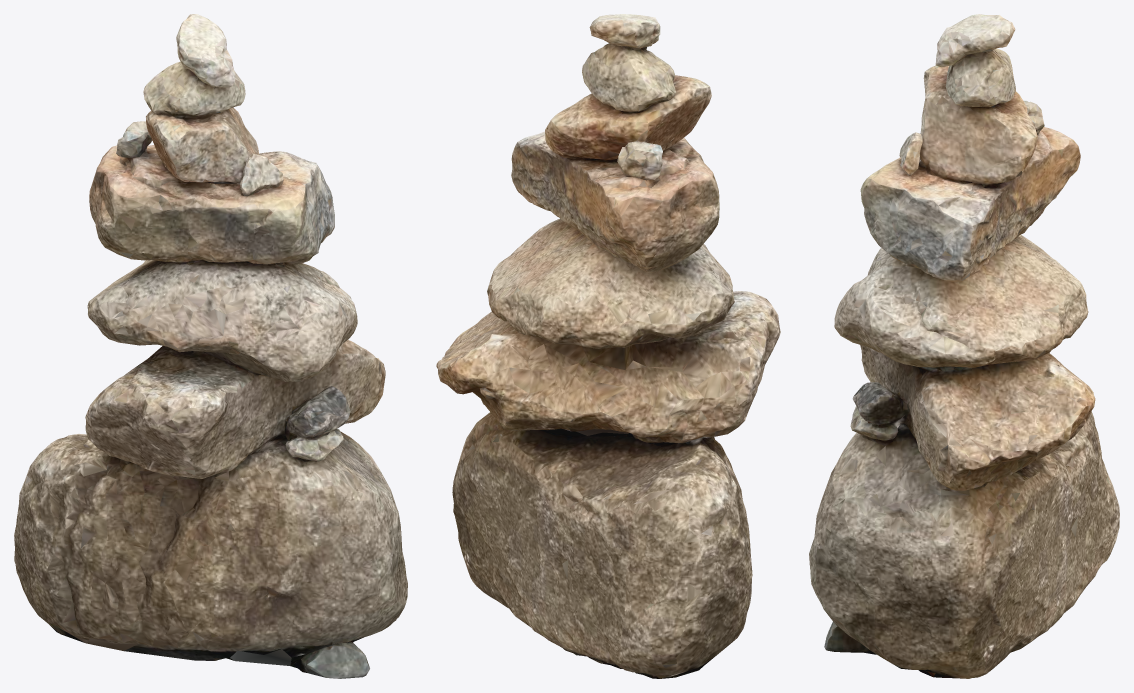
The model's file is stonetower_low.glb.
3 renders of one model, left to right at view 1: azimuth 30°, elevation 25°; view 2: azimuth 150°, elevation 25°; view 3: azimuth 270°, elevation 25°, orthographic. The views are drawn at different scales.
Visible parts, largest first — view 1: model_tex_u1_v1_0; view 2: model_tex_u1_v1_0; view 3: model_tex_u1_v1_0.
Part boxes in pixels (left/top/right/bottom): model_tex_u1_v1_0: left=14, top=14, right=407, bottom=678; model_tex_u1_v1_0: left=436, top=14, right=780, bottom=678; model_tex_u1_v1_0: left=809, top=14, right=1119, bottom=678.
Bounding box in the file's own units: 0.3081 × 0.567 × 0.2655.
Materials: 1 (1 with a texture image).
